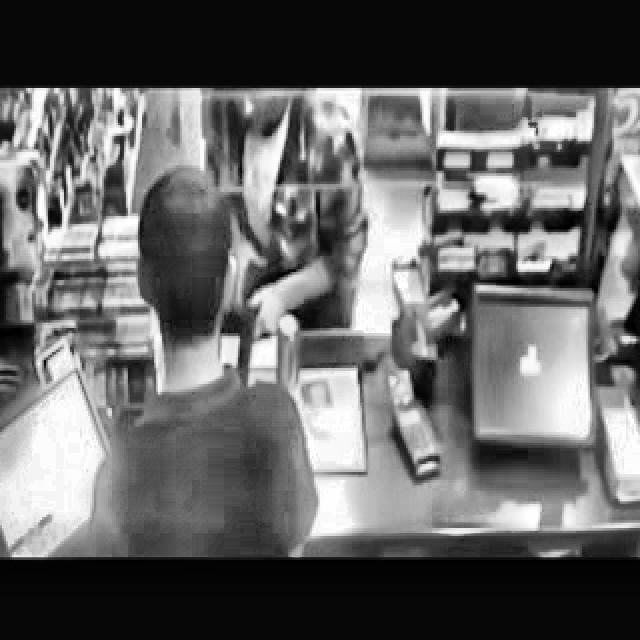robbery: (208, 89, 371, 387)
